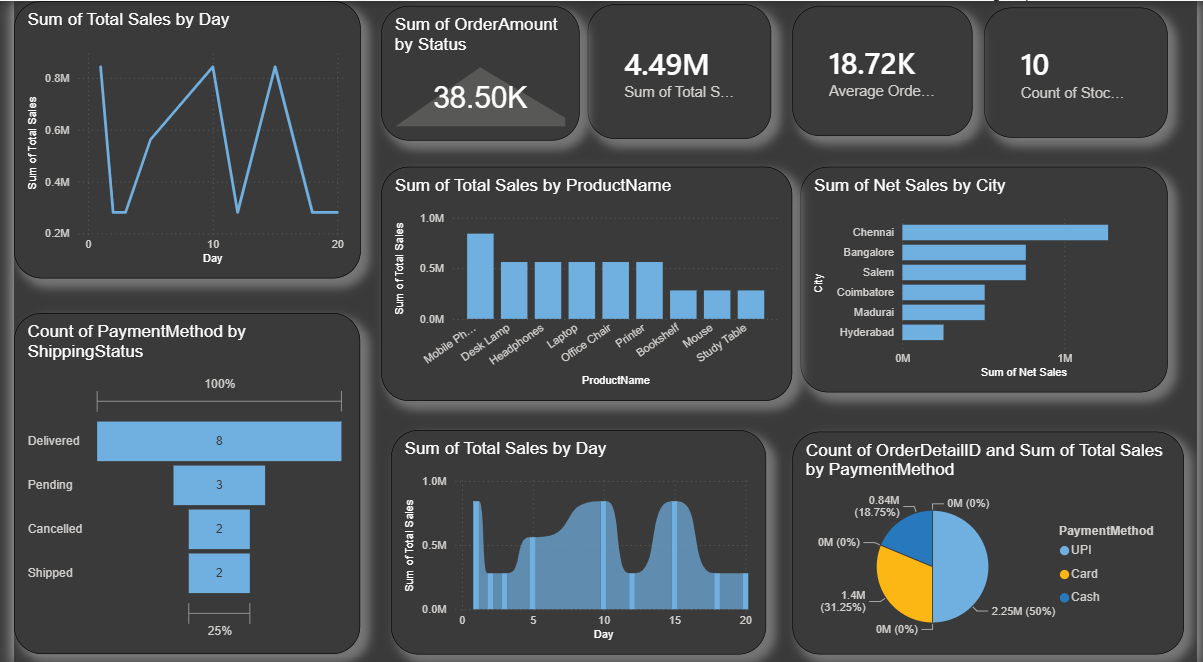

What the dashboard file says about the page in this screenshot:
{"tool":"powerbi","page":{"name":"SALES OVERVIEW","canvas":[1280,720],"ordinal":0},"visuals":[{"type":"cardVisual","fields":{"Data":["CountNonNull(Products.StockQuantity)"]},"box":[1050.4,7,198.8,140.8],"z":0},{"type":"cardVisual","fields":{"Data":["Avg(Orders.OrderAmount)"]},"box":[842.8,5.3,195.3,140.8],"z":1000},{"type":"cardVisual","fields":{"Data":["Sum(OrderDetails.Total Sales)"]},"box":[621.1,3.5,198.8,146],"z":2000},{"type":"kpi","fields":{"Indicator":["Sum(Orders.OrderAmount)"],"TrendLine":["Orders.Status"]},"box":[397.6,5.3,214.7,146],"z":3000},{"type":"lineChart","fields":{"Category":["Orders.OrderDate.Variation.Date Hierarchy.Day"],"Y":["Sum(OrderDetails.Total Sales)"]},"box":[0,0,375.4,300.3],"z":4000},{"type":"funnel","fields":{"Category":["Orders.ShippingStatus"],"Y":["CountNonNull(Orders.PaymentMethod)"]},"box":[0,337.8,374.8,369.5],"z":5000},{"type":"ribbonChart","fields":{"Category":["Orders.OrderDate.Variation.Date Hierarchy.Day"],"Y":["Sum(OrderDetails.Total Sales)"]},"box":[408.2,464.5,406.4,242.8],"z":6000},{"type":"clusteredBarChart","fields":{"Category":["Customers.City"],"Y":["Sum(OrderDetails.Net Sales)"]},"box":[851.6,179.5,397.6,244.6],"z":7000},{"type":"lineStackedColumnComboChart","fields":{"Category":["Products.ProductName"],"Y":["Sum(OrderDetails.Total Sales)"]},"box":[397.6,179.5,445.1,253.4],"z":8000},{"type":"pieChart","fields":{"Category":["Orders.PaymentMethod"],"Y":["CountNonNull(OrderDetails.OrderDetailID)","Sum(OrderDetails.Total Sales)"]},"box":[842.8,466.3,424,241],"z":9000}]}

Visuals, with their boxes in screenshot pixels (x1, y1, x2, y2), scaled from the page's 1280x720 canvas onto the 1203x662 screenshot:
cardVisual - CountNonNull(Products.StockQuantity): (987,6,1174,136)
cardVisual - Avg(Orders.OrderAmount): (792,5,976,134)
cardVisual - Sum(OrderDetails.Total Sales): (584,3,771,137)
kpi - Sum(Orders.OrderAmount) x Orders.Status: (374,5,575,139)
lineChart - Orders.OrderDate.Variation.Date Hierarchy.Day x Sum(OrderDetails.Total Sales): (0,0,353,276)
funnel - Orders.ShippingStatus x CountNonNull(Orders.PaymentMethod): (0,311,352,650)
ribbonChart - Orders.OrderDate.Variation.Date Hierarchy.Day x Sum(OrderDetails.Total Sales): (384,427,766,650)
clusteredBarChart - Customers.City x Sum(OrderDetails.Net Sales): (800,165,1174,390)
lineStackedColumnComboChart - Products.ProductName x Sum(OrderDetails.Total Sales): (374,165,792,398)
pieChart - Orders.PaymentMethod x CountNonNull(OrderDetails.OrderDetailID): (792,429,1191,650)
